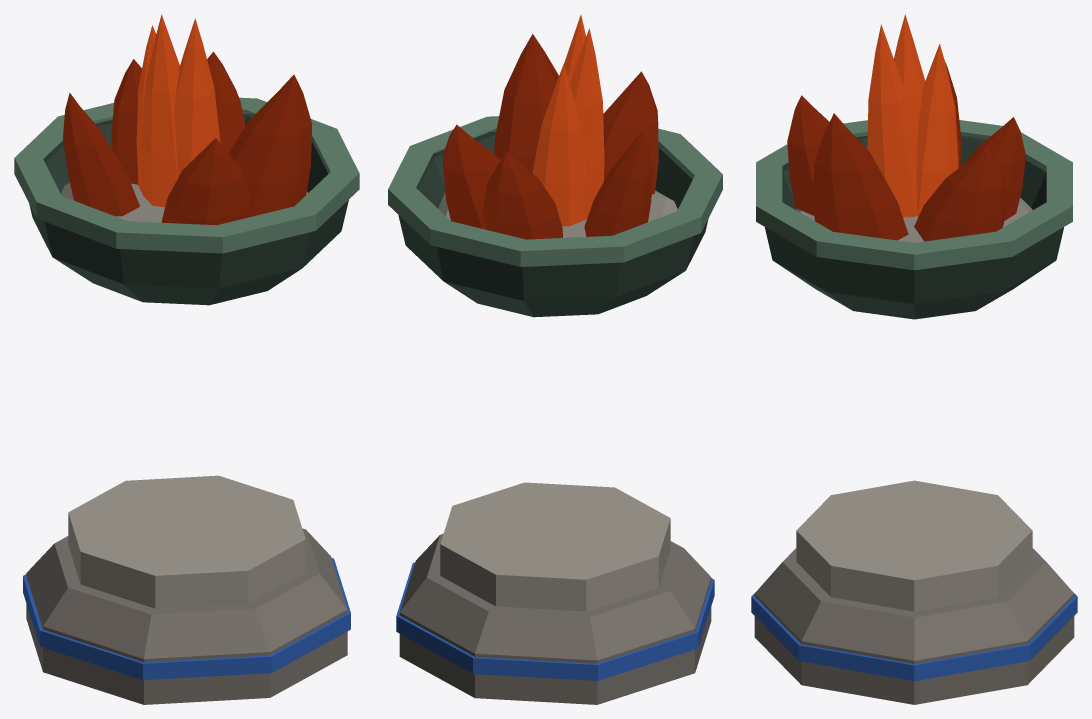
3 renders of one model, left to right at view 1: azimuth 30°, elevation 25°; view 2: azimuth 150°, elevation 25°; view 3: azimuth 270°, elevation 25°, orthographic. The views are drawn at different scales.
Parts seen in each view (by area): view 1: BZ-主体, BZ-自发光, BZ-team; view 2: BZ-主体, BZ-自发光, BZ-team; view 3: BZ-主体, BZ-自发光, BZ-team.
Boxes of the visible parts, bbox=[...] form: BZ-主体: bbox=[14, 97, 359, 704]; BZ-自发光: bbox=[63, 14, 312, 225]; BZ-team: bbox=[23, 558, 350, 680]; BZ-主体: bbox=[388, 116, 722, 704]; BZ-自发光: bbox=[442, 15, 658, 239]; BZ-team: bbox=[396, 562, 714, 680]; BZ-主体: bbox=[754, 120, 1074, 704]; BZ-自发光: bbox=[787, 14, 1025, 241]; BZ-team: bbox=[751, 592, 1077, 681].
Bounding box in the file's own units: 0.96 × 1.94 × 0.94.
Materials: 3 (2 with a texture image).
